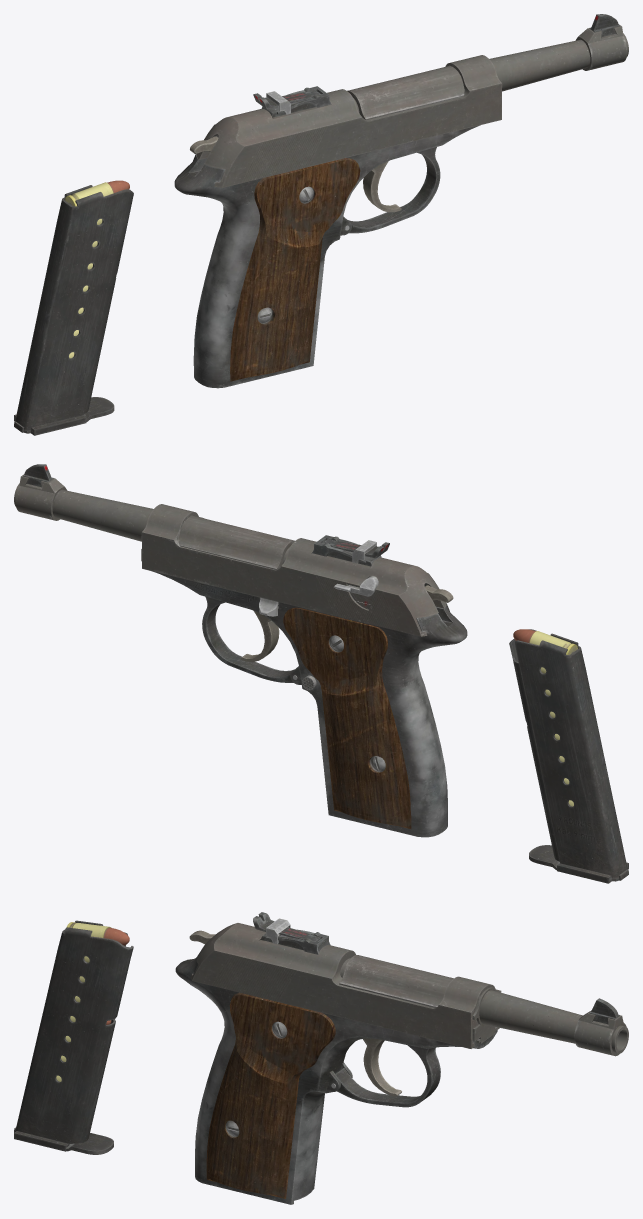
Rendered from service_pistol.glb.
3 views of the same model, one above another, from view 1: azimuth 30°, elevation 25°; view 2: azimuth 150°, elevation 25°; view 3: azimuth 330°, elevation 25° (orthographic).
Visible parts, largest first — view 1: service_pistol_pistol_a, service_pistol_magazine_loaded, service_pistol_slide_a, service_pistol_trigger_a; view 2: service_pistol_pistol_a, service_pistol_magazine_loaded, service_pistol_slide_a, service_pistol_trigger_a; view 3: service_pistol_pistol_a, service_pistol_magazine_loaded, service_pistol_slide_a, service_pistol_trigger_a.
Part boxes in pixels (x1,y1,x2,y2): service_pistol_pistol_a: (174, 14, 628, 388); service_pistol_magazine_loaded: (14, 180, 133, 435); service_pistol_slide_a: (197, 55, 502, 187); service_pistol_trigger_a: (363, 161, 401, 212); service_pistol_pistol_a: (14, 464, 467, 837); service_pistol_magazine_loaded: (509, 629, 628, 883); service_pistol_slide_a: (141, 504, 450, 636); service_pistol_trigger_a: (240, 611, 279, 661); service_pistol_pistol_a: (175, 955, 628, 1204); service_pistol_magazine_loaded: (14, 920, 133, 1154); service_pistol_slide_a: (190, 912, 501, 1048); service_pistol_trigger_a: (363, 1038, 401, 1096).
Bounding box in the file's own units: 0.3016 × 0.1307 × 0.0318.
1 material, 1 textured.
